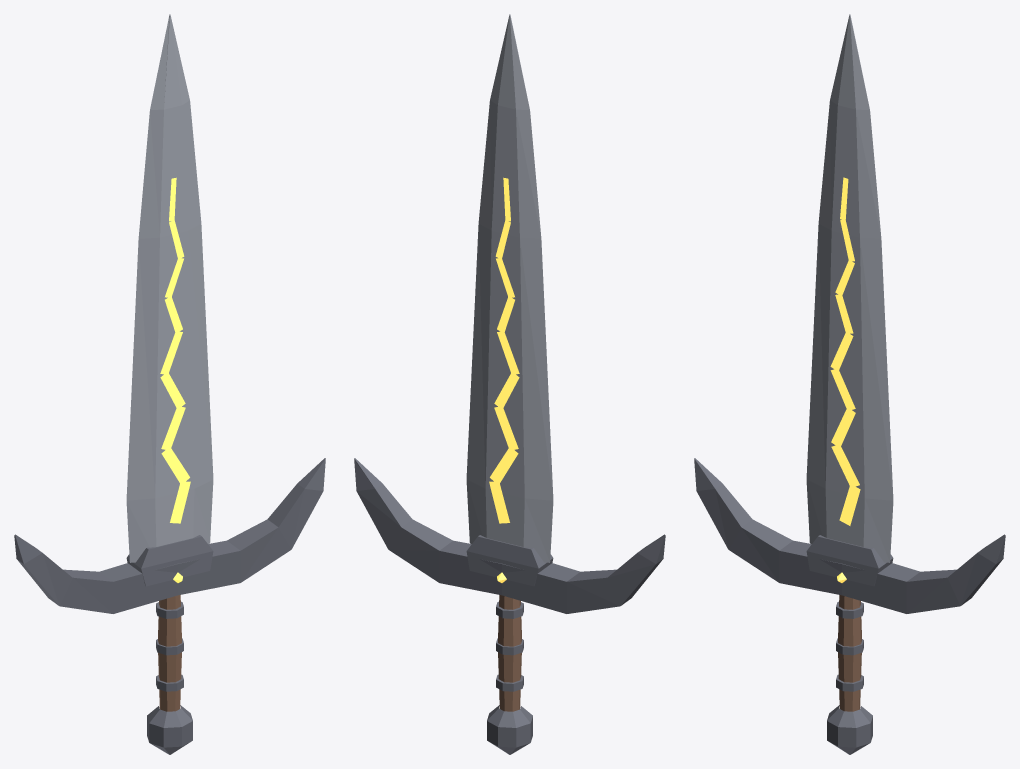
Rendered from Glutklinge.glb.
The picture shows the model from 3 angles, left to right: view 1: azimuth 30°, elevation 25°; view 2: azimuth 150°, elevation 25°; view 3: azimuth 330°, elevation 25°; orthographic projection.
Visible parts, largest first — view 1: blade, guard_right, guard_left, ember_vein, collar, grip, pommel, grip_rings; view 2: blade, guard_right, guard_left, ember_vein, collar, grip, pommel, grip_rings; view 3: blade, guard_left, guard_right, ember_vein, collar, grip, pommel, grip_rings.
Boxes of the visible parts, x1,y1,x2,y2 form: blade: (126, 14, 213, 562); guard_right: (178, 458, 325, 595); guard_left: (14, 534, 177, 613); ember_vein: (160, 177, 190, 523); collar: (126, 535, 213, 586); grip: (158, 595, 181, 711); pommel: (147, 705, 192, 754); grip_rings: (156, 601, 183, 691); blade: (466, 14, 553, 562); guard_right: (354, 458, 501, 595); guard_left: (502, 534, 665, 613); ember_vein: (489, 177, 519, 523); collar: (466, 535, 553, 586); grip: (498, 595, 521, 711); pommel: (487, 705, 532, 754); grip_rings: (496, 601, 523, 691); blade: (806, 14, 893, 562); guard_left: (694, 458, 841, 595); guard_right: (842, 534, 1005, 613); ember_vein: (830, 177, 860, 525); collar: (806, 535, 893, 586); grip: (838, 595, 861, 711); pommel: (827, 705, 872, 754); grip_rings: (836, 601, 863, 691).
Size of the model in its own units: 2.32 by 5.29 by 0.32.
